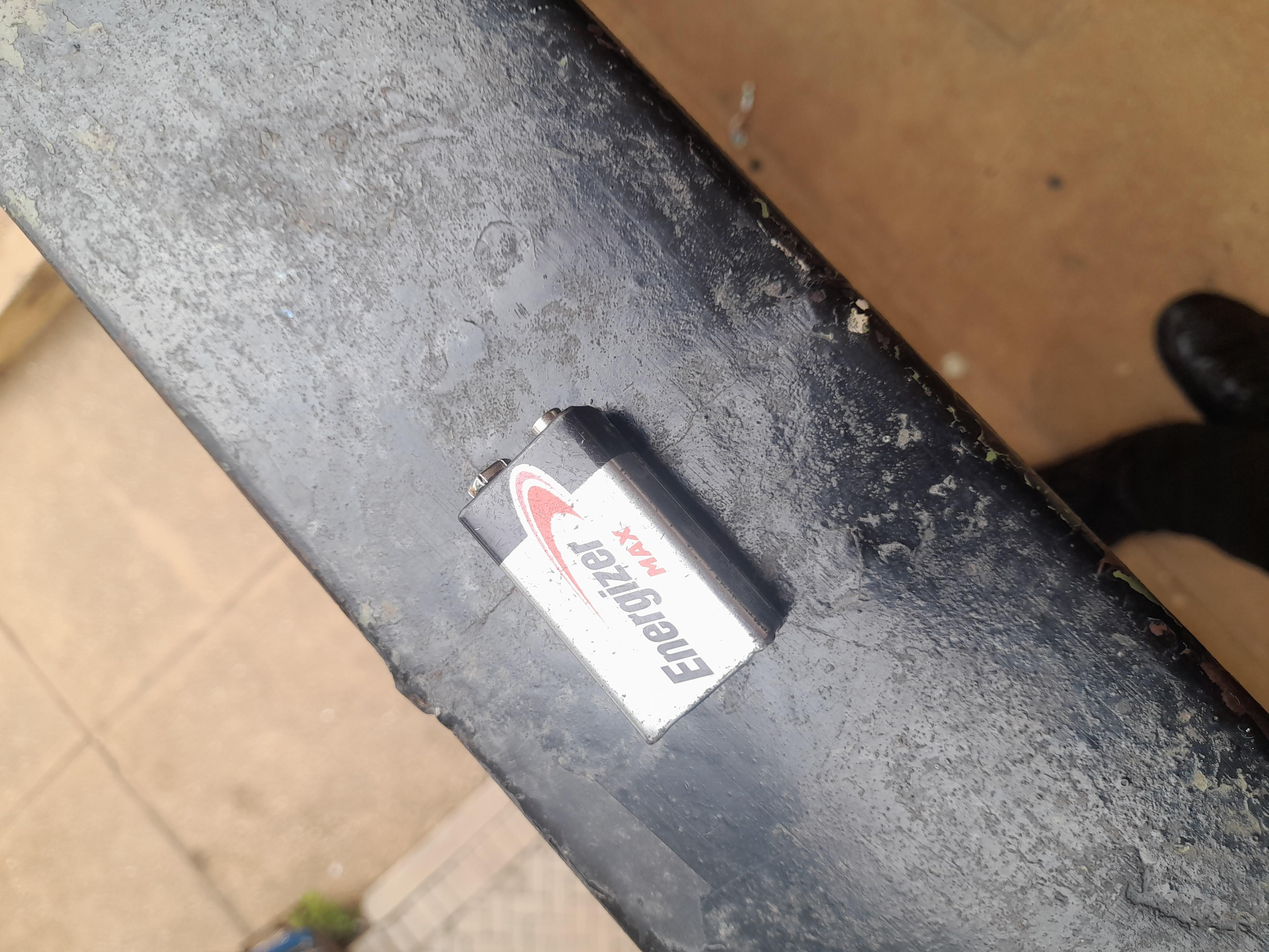9V: (476, 207, 886, 566)
